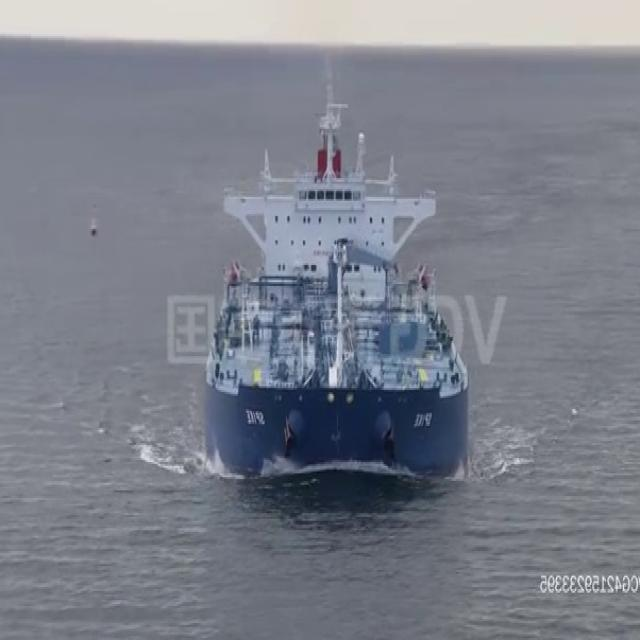cargoship: (201, 59, 470, 476)
